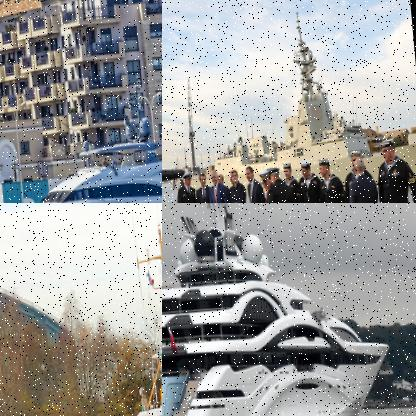Military Ship: (168, 0, 415, 202)
Patrol Boat: (82, 218, 161, 415)
Submarine: (162, 2, 415, 202)
Yacht: (162, 203, 397, 415), (0, 65, 161, 202)
